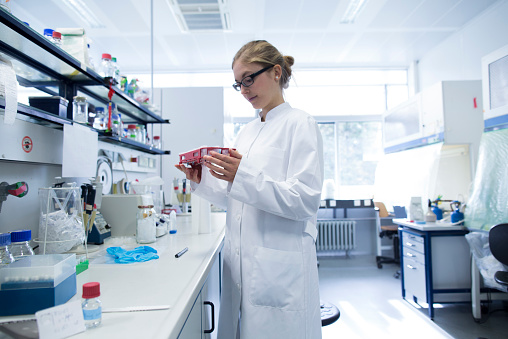em pe: (173, 37, 324, 339)
